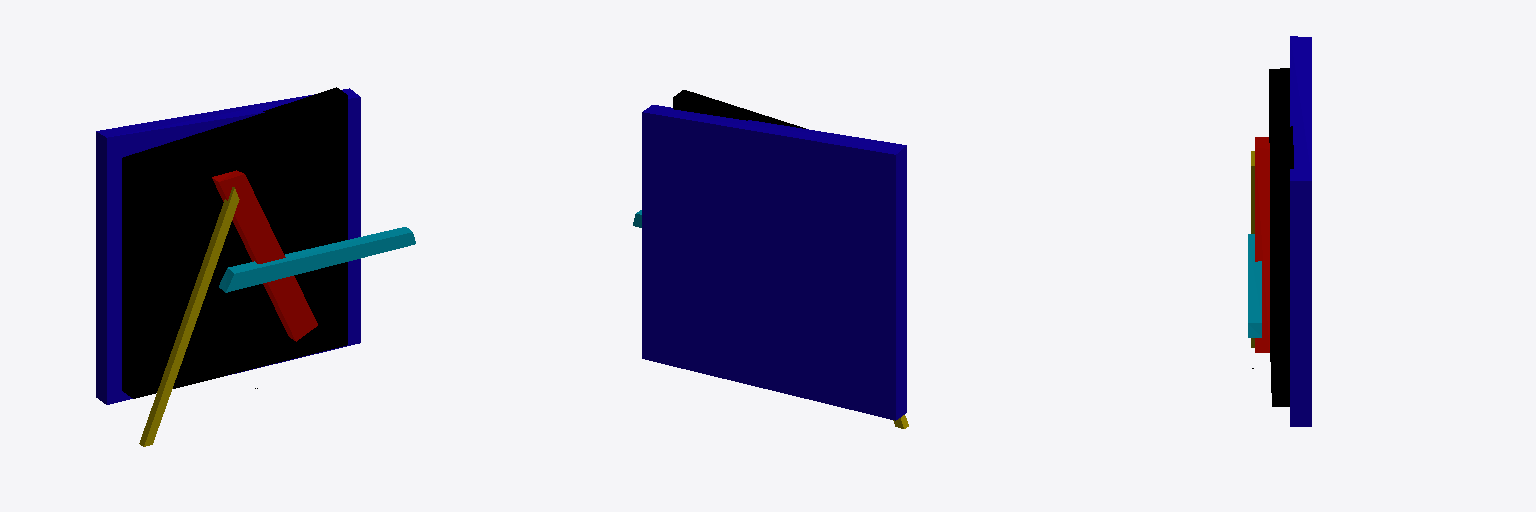
File: mark.obj
3 views of the same model, side by side, from view 1: azimuth 30°, elevation 25°; view 2: azimuth 150°, elevation 25°; view 3: azimuth 270°, elevation 25° (orthographic).
Visible parts, largest first — view 1: Cube.001_Cube.002, Cube.002_Cube.003, Cube_Cube.004, Cube.004_Cube.006, Cube.003_Cube.005; view 2: Cube.002_Cube.003, Cube.001_Cube.002; view 3: Cube.002_Cube.003, Cube.001_Cube.002, Cube_Cube.004, Cube.004_Cube.006.
Part boxes in pixels (x1,y1,x2,y2): Cube.001_Cube.002: (122,87,347,398); Cube.002_Cube.003: (96,88,360,404); Cube_Cube.004: (212,170,317,341); Cube.004_Cube.006: (219,227,415,292); Cube.003_Cube.005: (139,187,239,446); Cube.002_Cube.003: (642,105,906,420); Cube.001_Cube.002: (673,90,805,128); Cube.002_Cube.003: (1290,36,1311,426); Cube.001_Cube.002: (1269,68,1293,406); Cube_Cube.004: (1255,137,1269,352); Cube.004_Cube.006: (1248,234,1261,337).
Size of the model in its own units: 9.07 by 9.01 by 1.76.